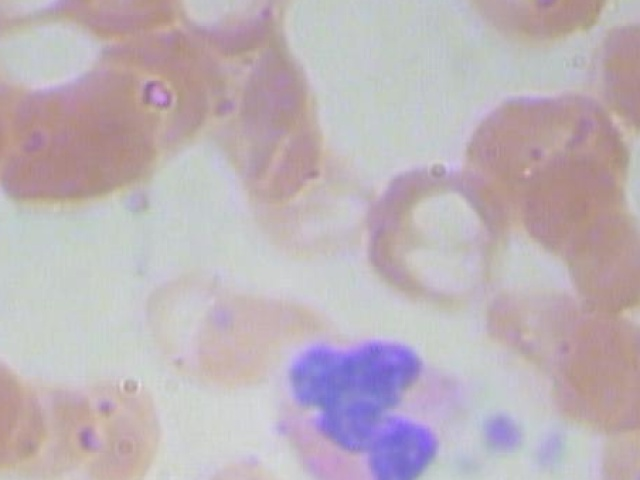Platelets: (474, 398, 527, 461), (528, 418, 581, 480)
RBC: (0, 50, 204, 222), (355, 149, 507, 321), (454, 78, 608, 233), (464, 257, 618, 412), (242, 137, 390, 259), (139, 260, 287, 382), (524, 167, 640, 322), (42, 373, 194, 480), (537, 293, 640, 448), (0, 364, 88, 480), (0, 316, 57, 480), (154, 0, 302, 59), (583, 0, 640, 148), (447, 0, 616, 44), (588, 409, 640, 480), (0, 70, 20, 192)
WBC: (259, 327, 475, 480)
